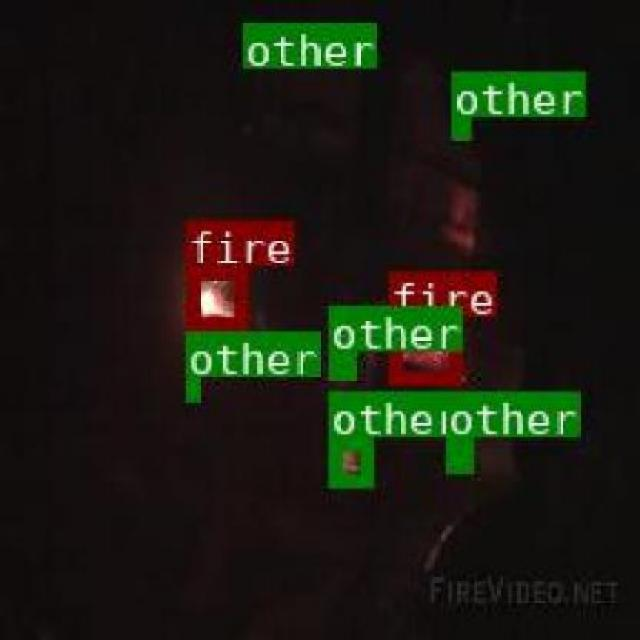Fire: (388, 316, 460, 381), (186, 263, 245, 328)
